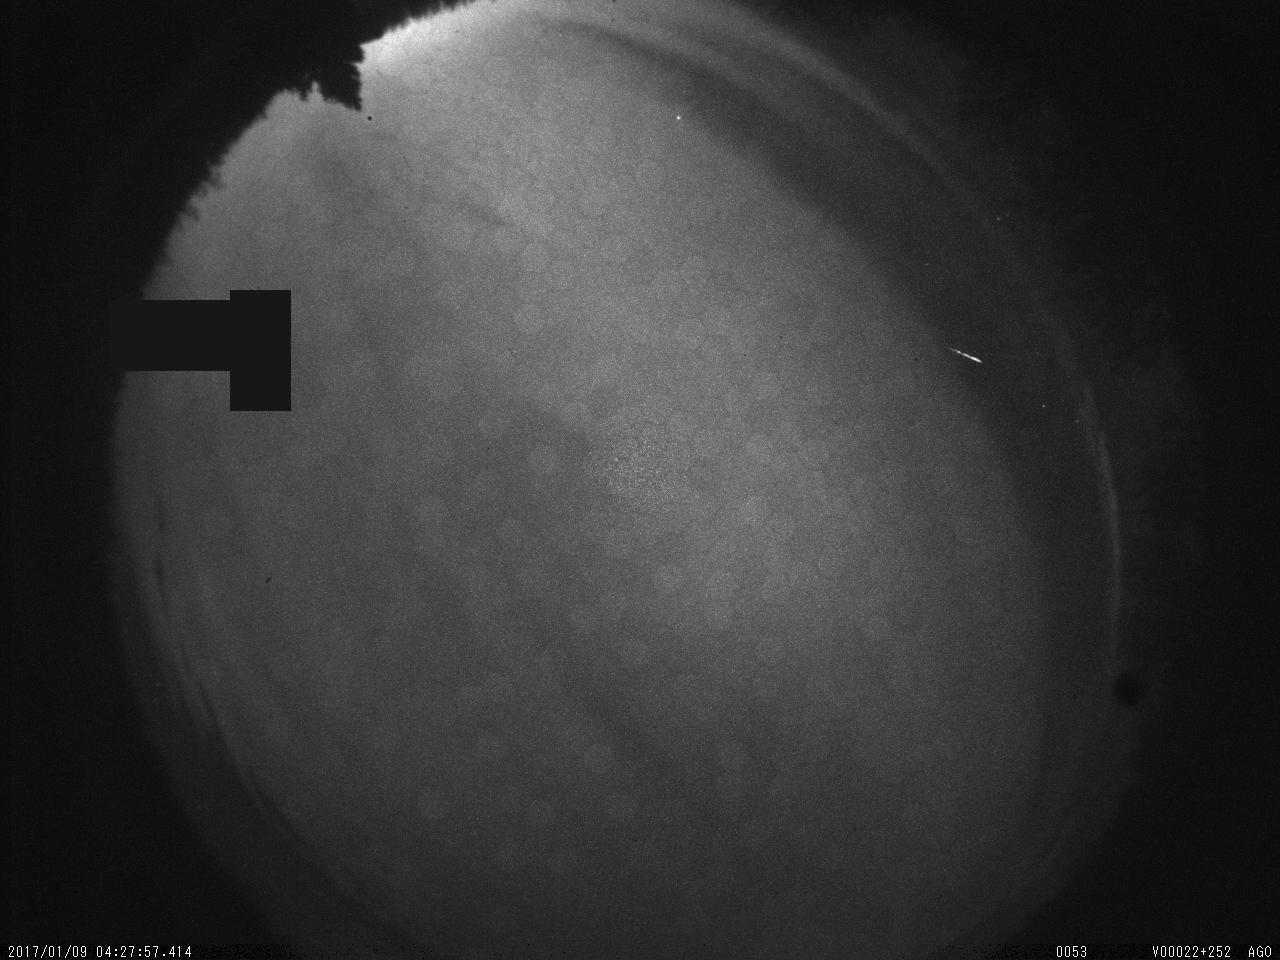meteor: (943, 327, 990, 380)
